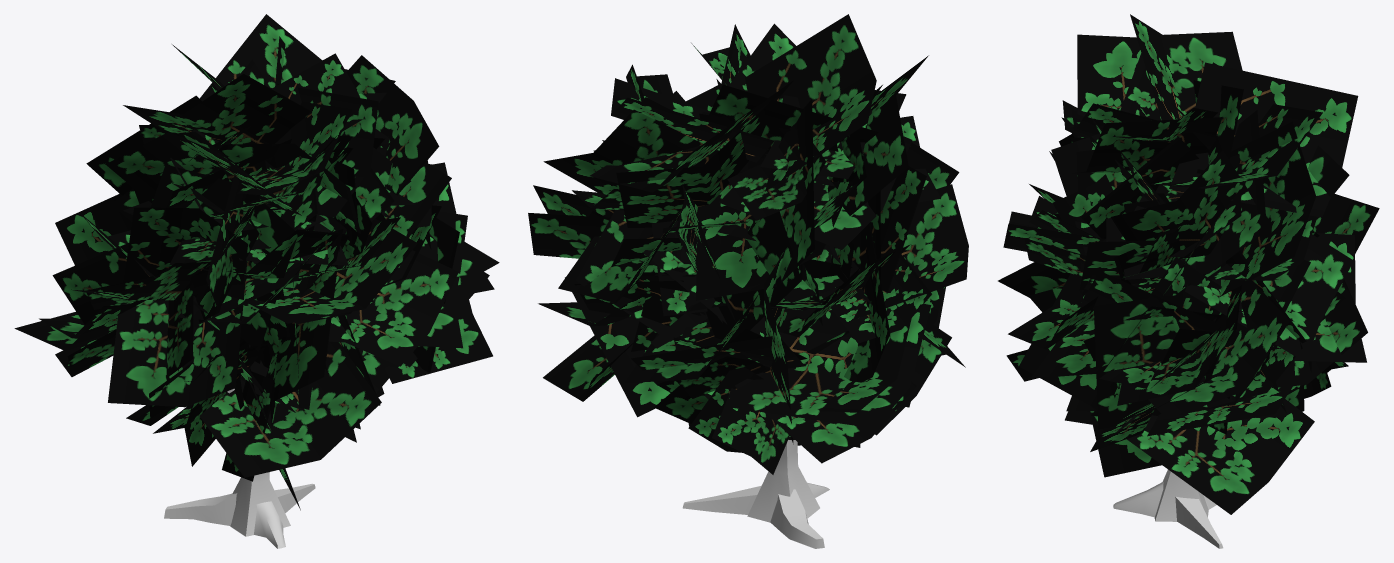
The model's file is TreeVariation.1.fbx.
The picture shows the model from 3 angles, left to right: view 1: azimuth 30°, elevation 25°; view 2: azimuth 150°, elevation 25°; view 3: azimuth 270°, elevation 25°; orthographic projection. The views are drawn at different scales.
Visible parts, largest first — view 1: Tronco.005, Tronco.007; view 2: Tronco.005, Tronco.007; view 3: Tronco.005, Tronco.007.
Part boxes in pixels (left/top/right/bottom): Tronco.005: left=14, top=14, right=499, bottom=510; Tronco.007: left=164, top=388, right=315, bottom=548; Tronco.005: left=528, top=14, right=968, bottom=474; Tronco.007: left=682, top=440, right=829, bottom=548; Tronco.005: left=998, top=14, right=1379, bottom=514; Tronco.007: left=1113, top=469, right=1223, bottom=548.
Size of the model in its own units: 494 by 537 by 389.
